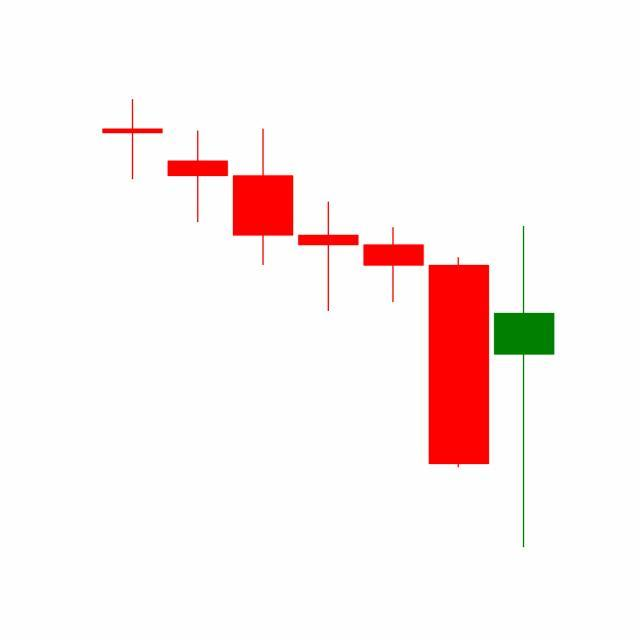Hikkake Pattern: (165, 126, 492, 472)
